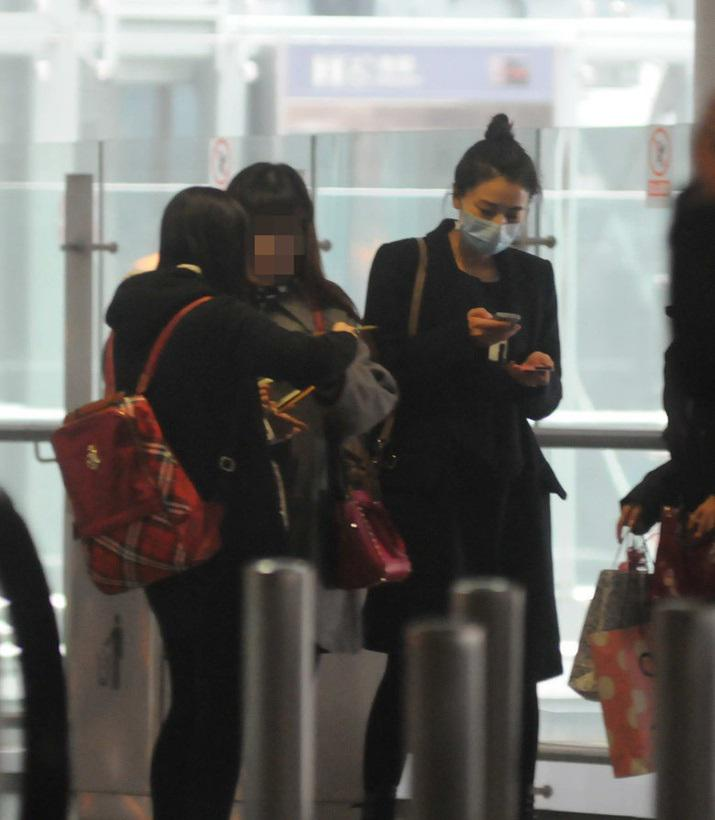OK: (464, 190, 531, 257)
